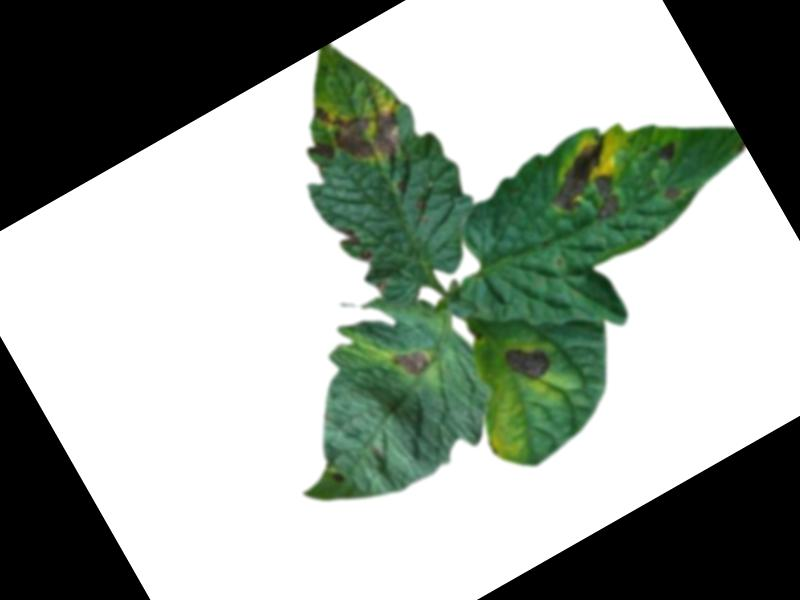Early_blight: (534, 134, 640, 239), (310, 75, 414, 182), (501, 334, 554, 388), (334, 219, 376, 269), (390, 344, 431, 383), (304, 134, 338, 168), (653, 138, 682, 167), (660, 184, 684, 206), (327, 468, 345, 487)
